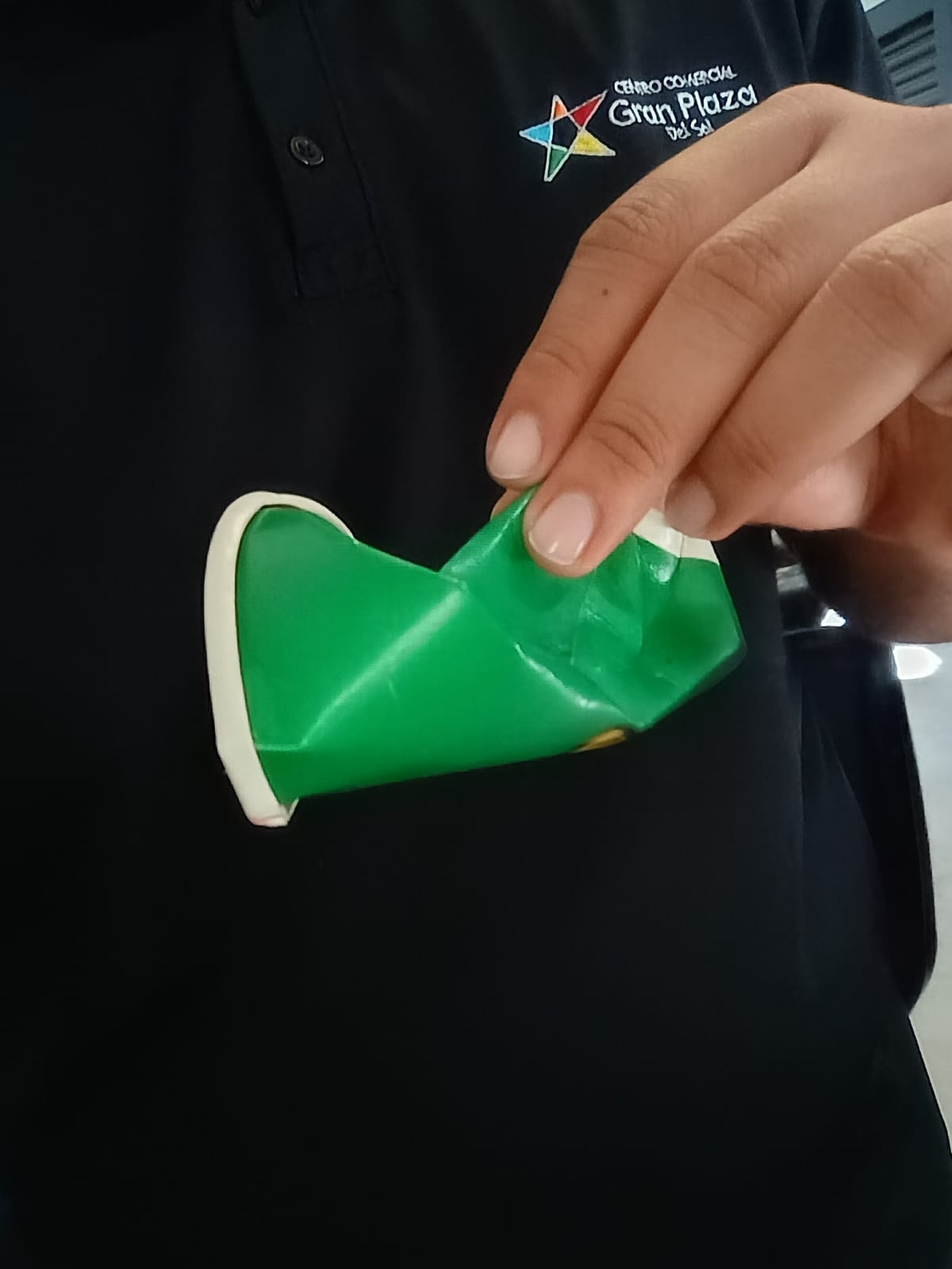Carton: (209, 460, 768, 828)
